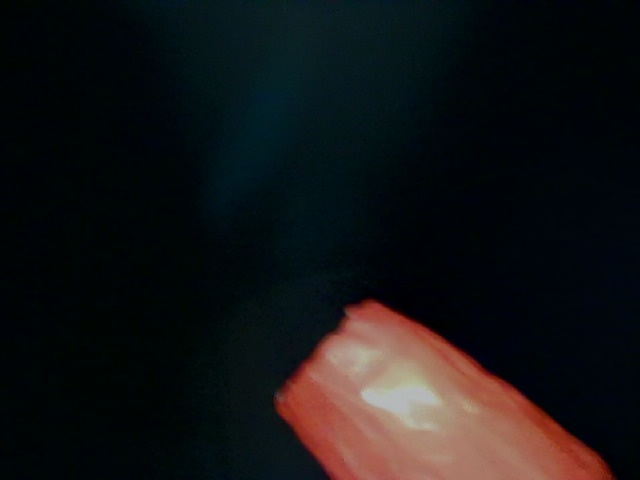CYLJ: (567, 350, 638, 465)
